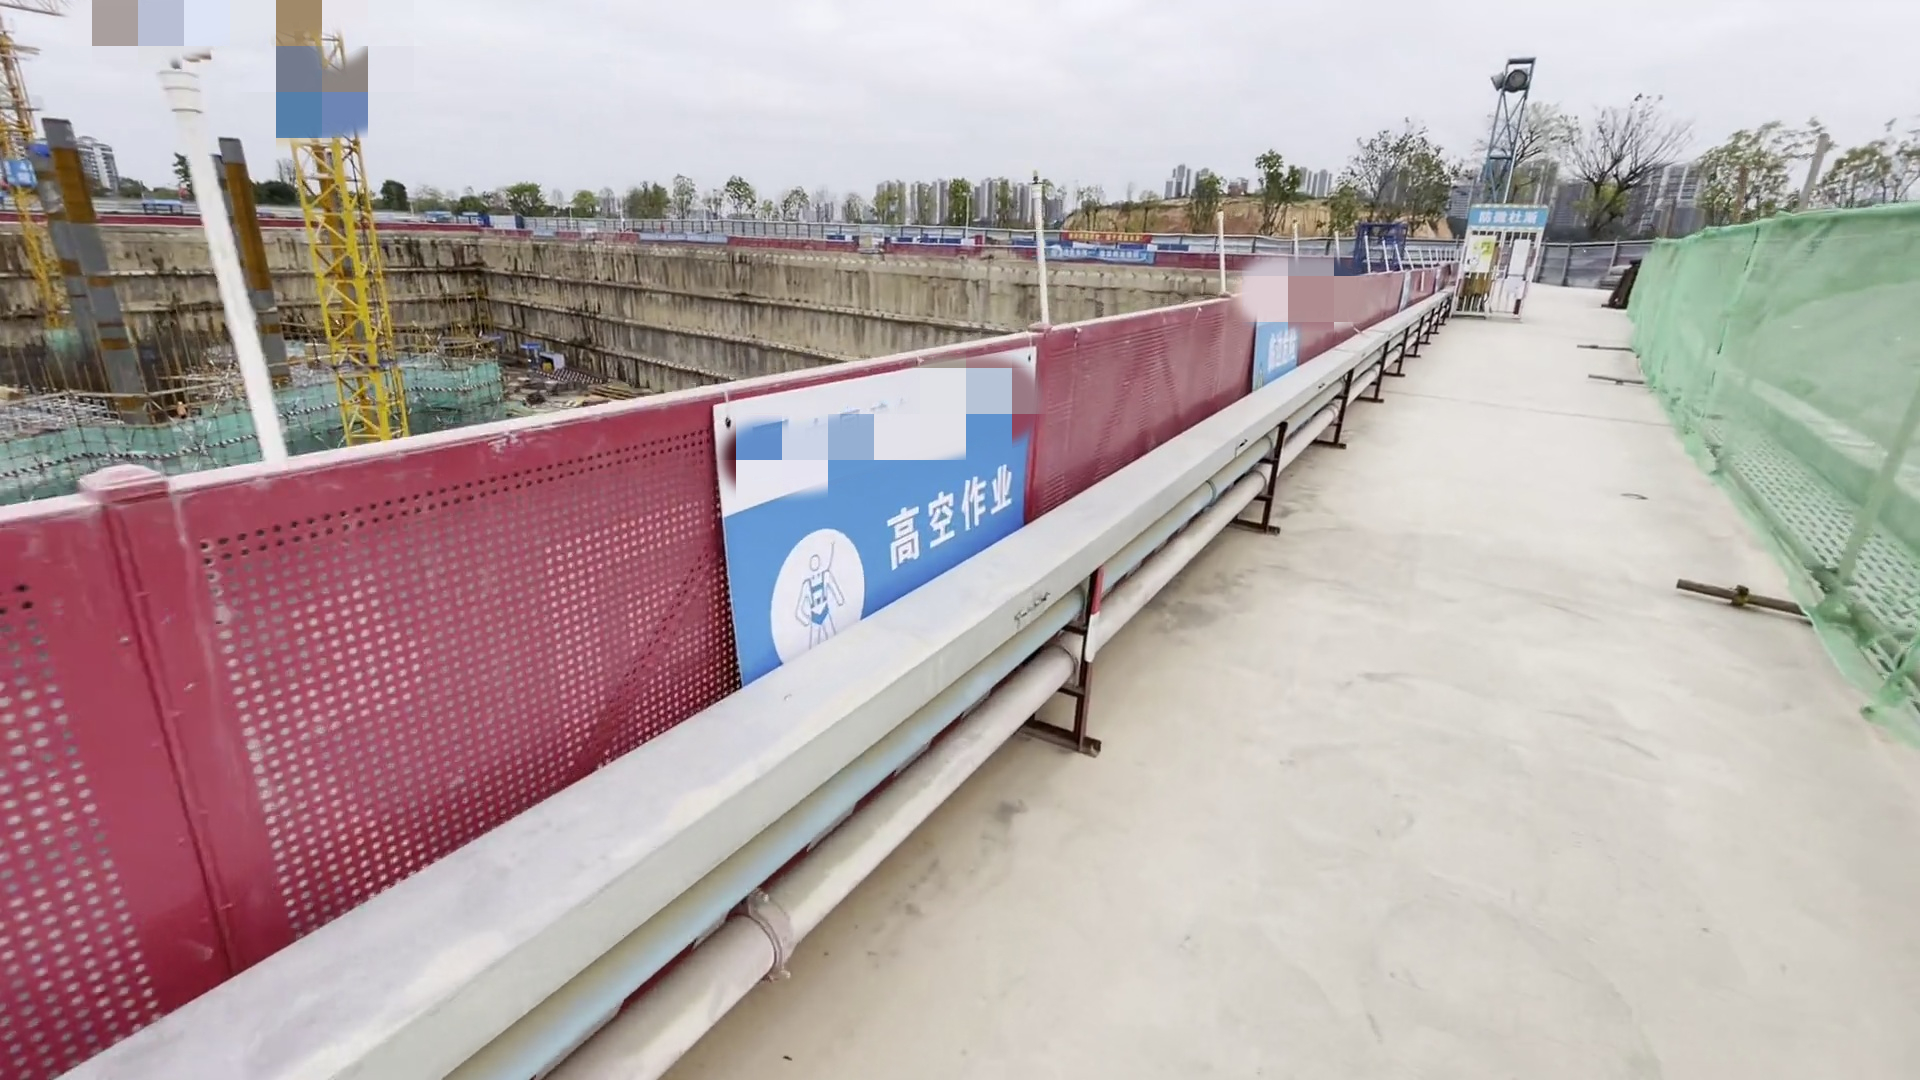fence: (1, 265, 1465, 1080)
slogan: (877, 477, 1050, 564), (1472, 194, 1552, 235), (1044, 237, 1154, 262), (1265, 326, 1312, 378), (1060, 220, 1164, 244)
